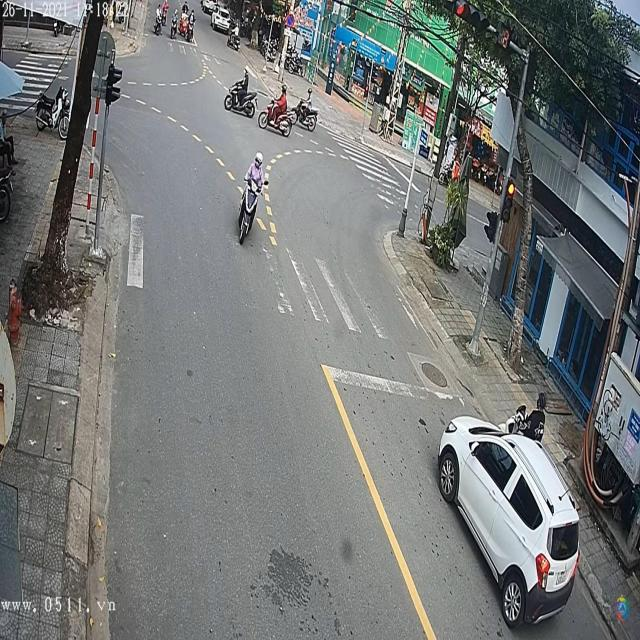car: (435, 418, 585, 628)
motorcycle: (238, 176, 262, 246), (259, 93, 293, 137), (283, 99, 317, 135), (225, 82, 256, 118)
